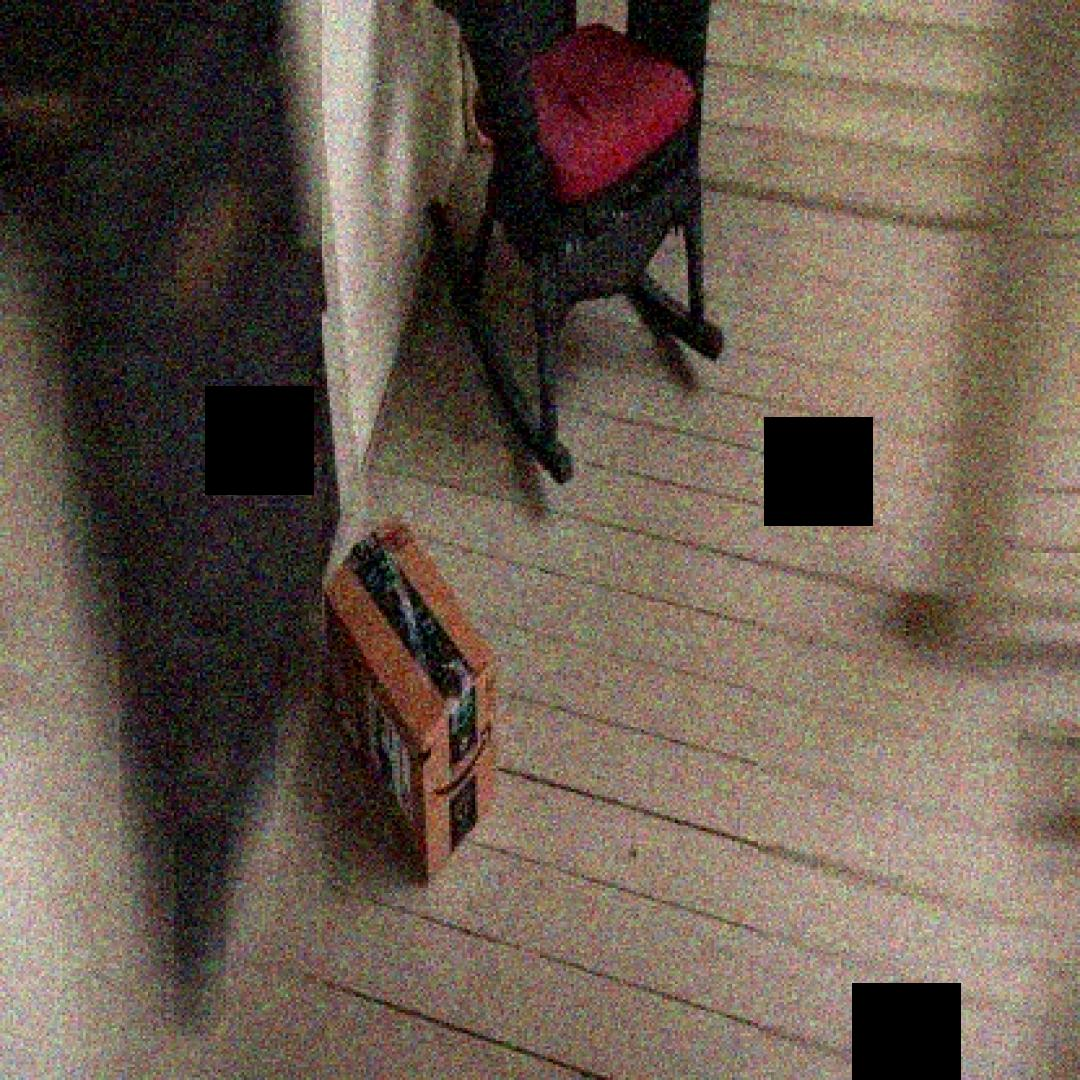package: (319, 508, 504, 890)
